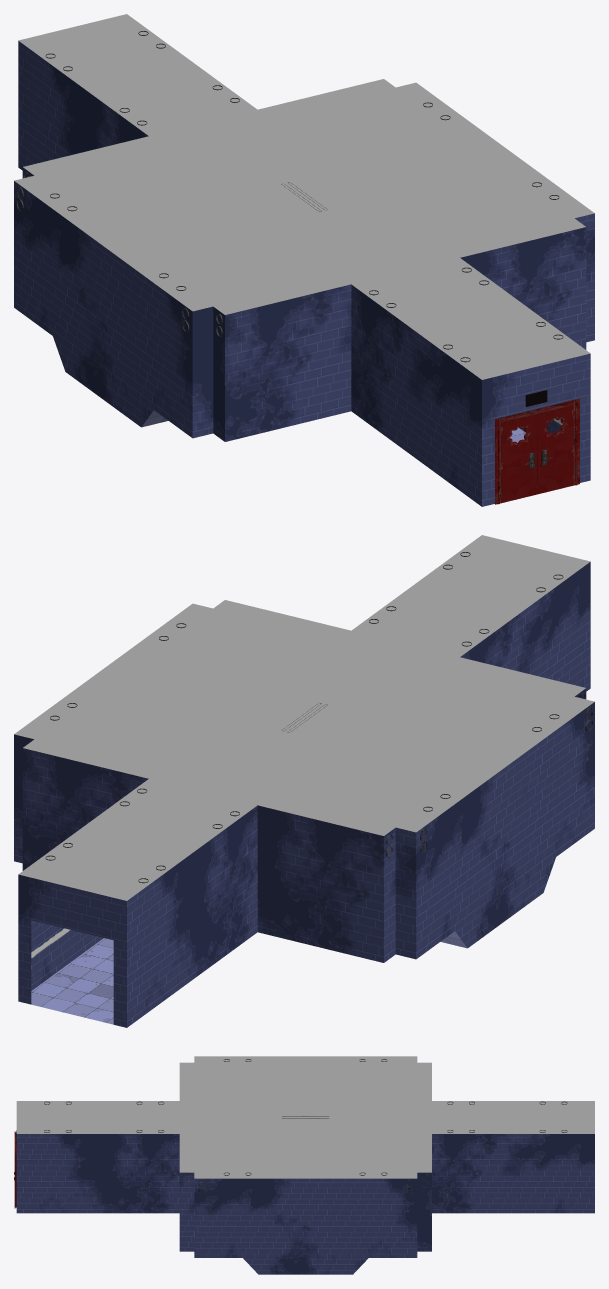
The model's file is Level12.fbx.
The picture shows the model from 3 angles, top to bottom: view 1: azimuth 30°, elevation 25°; view 2: azimuth 150°, elevation 25°; view 3: azimuth 270°, elevation 25°; orthographic projection. The views are drawn at different scales.
Visible parts, largest first — view 1: Roof, Wall, polySurface133, polySurface132, polySurface183, Pipe; view 2: Roof, Wall, Floor, Pipe; view 3: Wall, Roof, Pipe.
Part boxes in pixels (x1=…): Roof: x1=14, y1=14, x2=594, y2=379; Wall: x1=14, y1=41, x2=594, y2=506; polySurface133: x1=501, y1=414, x2=537, y2=503; polySurface132: x1=537, y1=405, x2=573, y2=494; polySurface183: x1=495, y1=398, x2=579, y2=504; Pipe: x1=16, y1=31, x2=563, y2=362; Roof: x1=14, y1=535, x2=594, y2=900; Wall: x1=14, y1=562, x2=594, y2=1027; Floor: x1=31, y1=931, x2=466, y2=1024; Pipe: x1=45, y1=552, x2=592, y2=883; Wall: x1=16, y1=1134, x2=594, y2=1274; Roof: x1=16, y1=1056, x2=594, y2=1178; Pipe: x1=44, y1=1059, x2=567, y2=1194.
Size of the model in its own units: 34.6 by 12.64 by 68.96.
